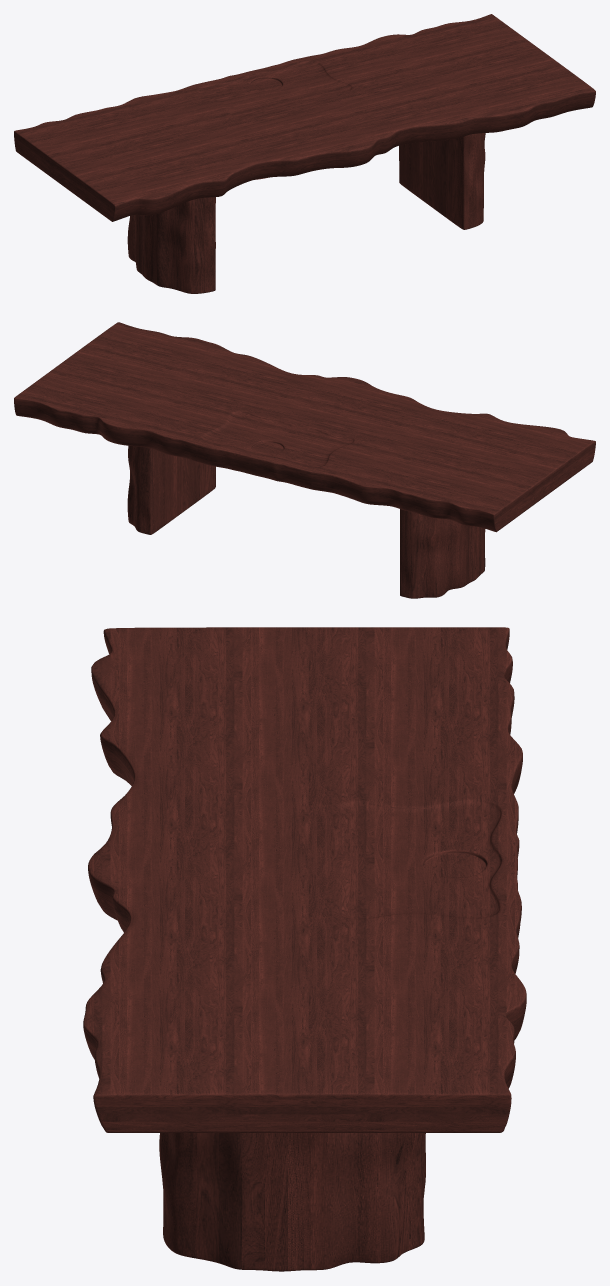
Rendered from MD-明茶桌.fbx.
3 renders of one model, top to bottom at view 1: azimuth 30°, elevation 25°; view 2: azimuth 150°, elevation 25°; view 3: azimuth 270°, elevation 25°, orthographic. The views are drawn at different scales.
Parts seen in each view (by area): view 1: MD-明茶桌; view 2: MD-明茶桌; view 3: MD-明茶桌.
Part boxes in pixels (x1,y1,x2,y2): MD-明茶桌: [14, 14, 595, 293]; MD-明茶桌: [14, 322, 595, 598]; MD-明茶桌: [83, 627, 526, 1271].
Size of the model in its own units: 3.35 by 1.34 by 0.8394.
